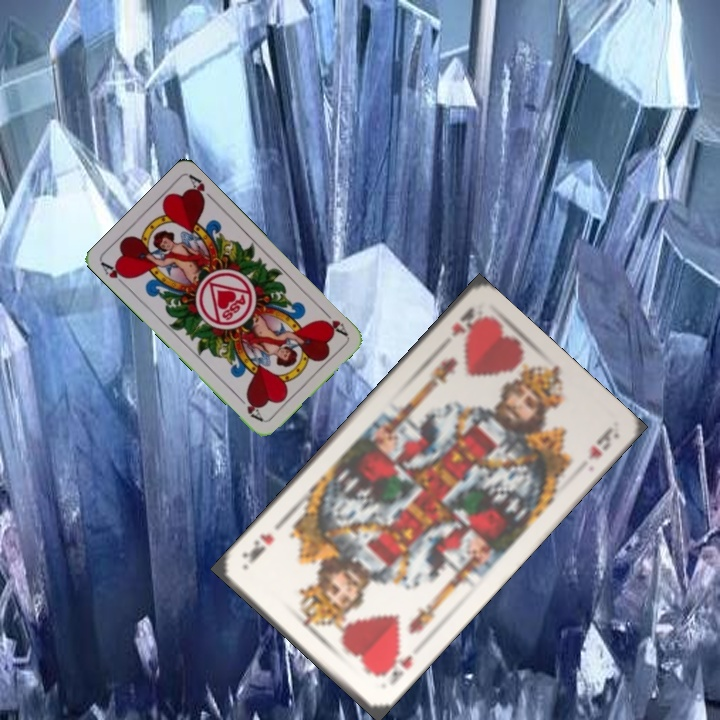HA: (97, 259, 132, 290), (318, 305, 350, 338)
HK: (373, 648, 415, 689), (447, 303, 483, 340)
